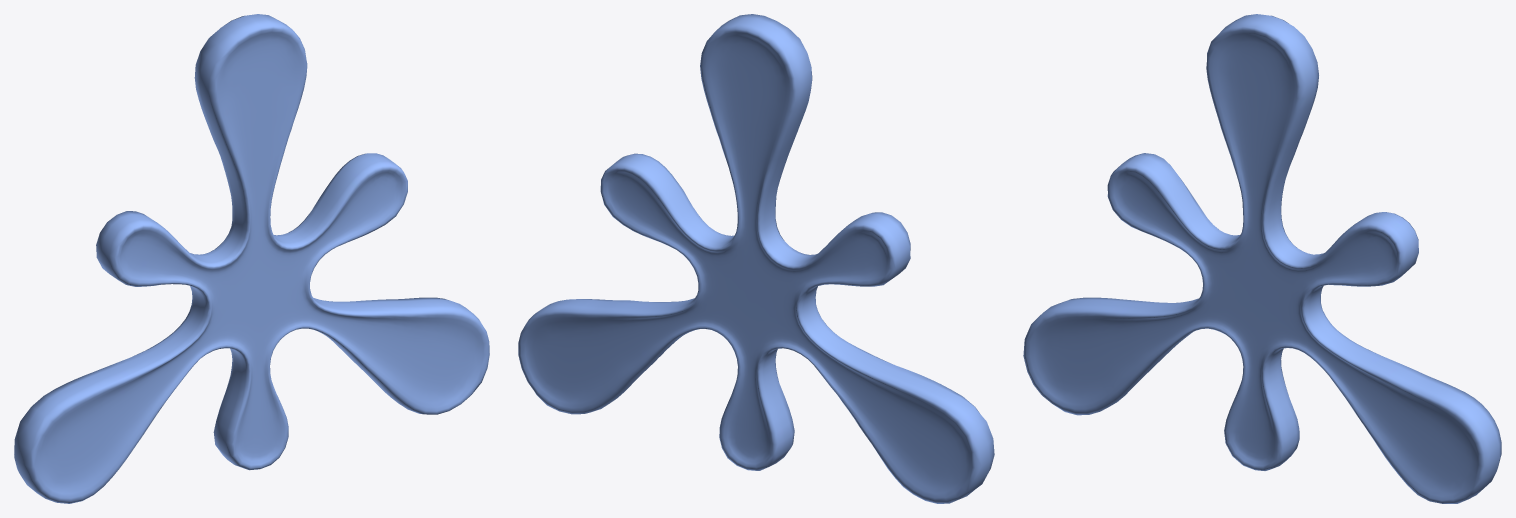
Rendered from Splash.glb.
The picture shows the model from 3 angles, left to right: view 1: azimuth 30°, elevation 25°; view 2: azimuth 150°, elevation 25°; view 3: azimuth 330°, elevation 25°; orthographic projection.
Visible parts, largest first — view 1: Retopo_Curve.005; view 2: Retopo_Curve.005; view 3: Retopo_Curve.005.
Boxes of the visible parts, x1,y1,x2,y2 form: Retopo_Curve.005: (14,14,489,503); Retopo_Curve.005: (518,14,994,503); Retopo_Curve.005: (1023,14,1501,503).
Size of the model in its own units: 0.5445 by 0.4998 by 0.0381.
Materials: 1 (1 with a texture image).
